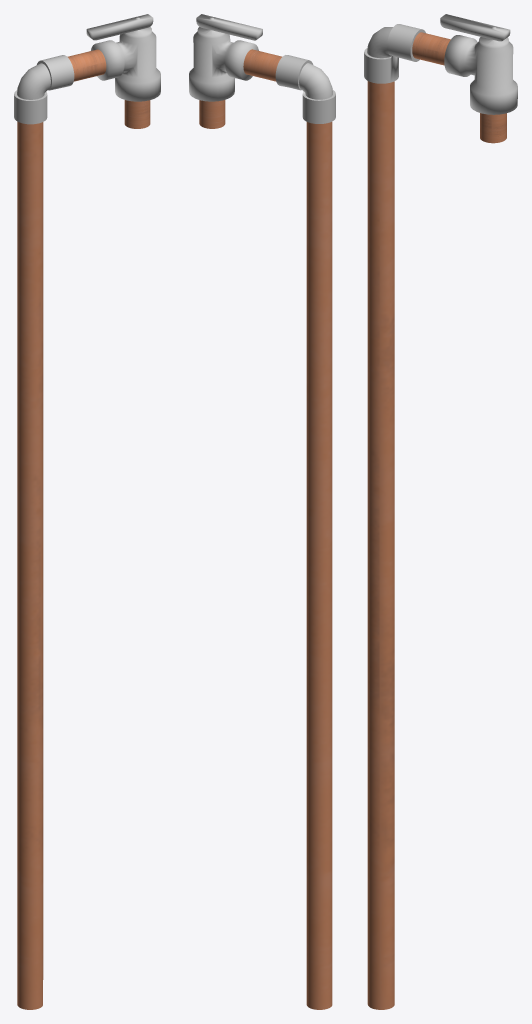
Rendered from Boiler PSV Line.fbx.
3 views of the same model, side by side, from view 1: azimuth 30°, elevation 25°; view 2: azimuth 150°, elevation 25°; view 3: azimuth 330°, elevation 25° (orthographic). The views are drawn at different scales.
Parts seen in each view (by area): view 1: Pipe 1.003, PSV.001, Elbow.027, Pipe 1.004, Pipe 1.005; view 2: Pipe 1.003, PSV.001, Elbow.027, Pipe 1.004, Pipe 1.005; view 3: Pipe 1.003, PSV.001, Elbow.027, Pipe 1.004, Pipe 1.005.
Boxes of the visible parts, left/top/right/bottom form: Pipe 1.003: left=17, top=121, right=43, bottom=1009; PSV.001: left=86, top=14, right=160, bottom=101; Elbow.027: left=14, top=55, right=74, bottom=124; Pipe 1.004: left=67, top=49, right=106, bottom=81; Pipe 1.005: left=124, top=100, right=150, bottom=128; Pipe 1.003: left=306, top=122, right=332, bottom=1009; PSV.001: left=189, top=14, right=262, bottom=101; Elbow.027: left=275, top=55, right=335, bottom=123; Pipe 1.004: left=243, top=49, right=282, bottom=81; Pipe 1.005: left=199, top=100, right=225, bottom=128; Pipe 1.003: left=367, top=81, right=394, bottom=1009; PSV.001: left=440, top=14, right=517, bottom=114; Elbow.027: left=364, top=24, right=425, bottom=83; Pipe 1.004: left=412, top=32, right=450, bottom=65; Pipe 1.005: left=480, top=113, right=506, bottom=143.
Size of the model in its own units: 12.93 by 83.79 by 3.63.
